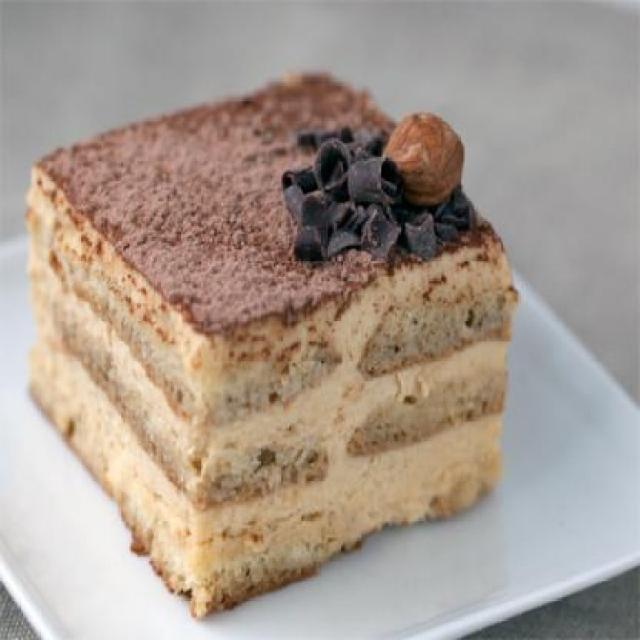Tiramisu: (26, 70, 506, 613)
